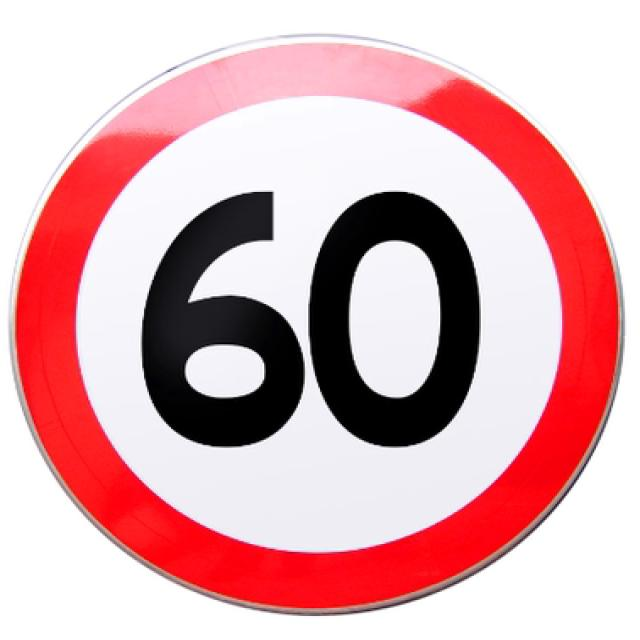speed limit 60: (9, 35, 626, 617)
